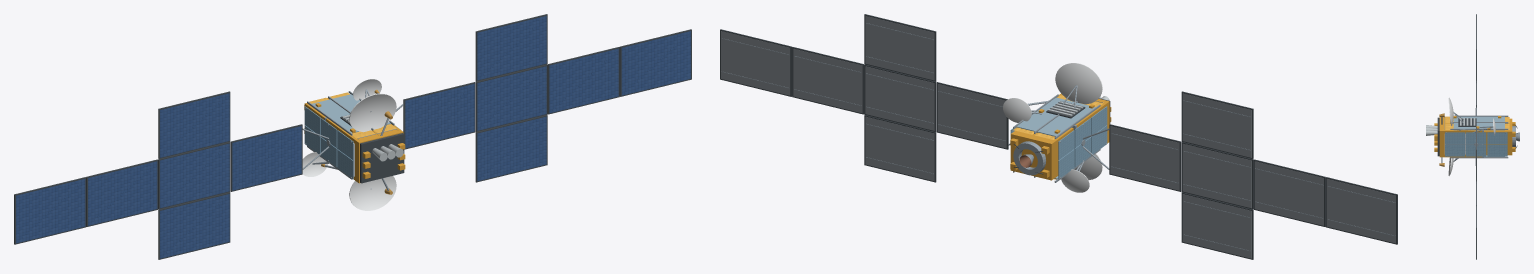
The model's file is amc-23-spacebus.glb.
The picture shows the model from 3 angles, left to right: view 1: azimuth 30°, elevation 25°; view 2: azimuth 150°, elevation 25°; view 3: azimuth 270°, elevation 25°; orthographic projection. The views are drawn at different scales.
Parts seen in each view (by area): view 1: Solar cell panel (×12), Solar panel frame (×12), Communications reflector (×4), Earth-facing deck, Equipment bay sidewall, Payload module; view 2: Rear array substrate (×12), Solar panel frame (×12), Communications reflector (×4), Service module, Equipment bay sidewall, Launch adapter ring; view 3: Radiator tile bay (×6), Equipment bay sidewall, Payload module, Service module, Equipment bay longeron (×3), Communications reflector (×2), Louvre surround, Earth-facing deck, Launch adapter ring.
Boxes of the visible parts, x1,y1,x2,y2 form: Solar cell panel (×12): (16, 16, 690, 258); Solar panel frame (×12): (14, 14, 691, 259); Communications reflector (×4): (302, 79, 396, 210); Earth-facing deck: (360, 133, 404, 183); Equipment bay sidewall: (312, 94, 390, 132); Payload module: (326, 118, 403, 183); Rear array substrate (×12): (721, 16, 1395, 258); Solar panel frame (×12): (720, 14, 1397, 259); Communications reflector (×4): (1003, 63, 1102, 192); Service module: (1010, 127, 1073, 180); Equipment bay sidewall: (1016, 97, 1095, 136); Launch adapter ring: (1013, 141, 1045, 175); Radiator tile bay (×6): (1445, 132, 1507, 156); Equipment bay sidewall: (1453, 116, 1504, 130); Payload module: (1439, 116, 1482, 157); Service module: (1484, 118, 1512, 155); Equipment bay longeron (×3): (1450, 115, 1508, 158); Communications reflector (×2): (1448, 97, 1453, 176); Louvre surround: (1458, 118, 1476, 126); Earth-facing deck: (1437, 117, 1439, 156); Launch adapter ring: (1512, 126, 1515, 147).
Bounding box in the file's own units: 37.96 × 8.07 × 7.04.
13 materials, 2 textured.
